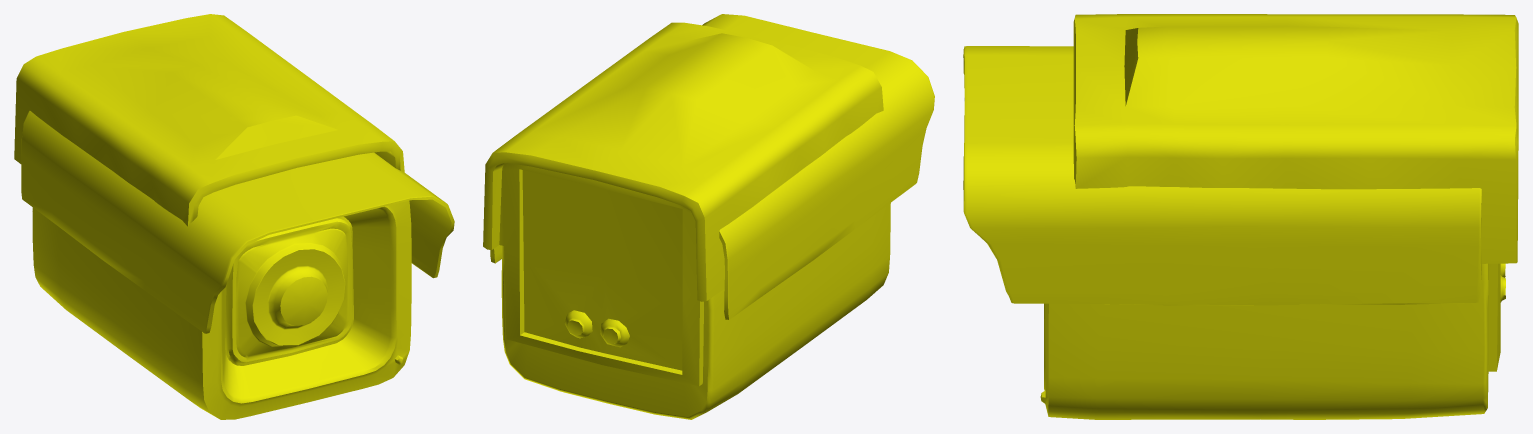
3 renders of one model, left to right at view 1: azimuth 30°, elevation 25°; view 2: azimuth 150°, elevation 25°; view 3: azimuth 270°, elevation 25°, orthographic. The views are drawn at different scales.
Parts seen in each view (by area): view 1: cameramen_head; view 2: cameramen_head; view 3: cameramen_head.
Boxes of the visible parts, x1,y1,x2,y2 form: cameramen_head: (14,14,454,419); cameramen_head: (483,14,934,419); cameramen_head: (963,14,1518,419).
Bounding box in the file's own units: 0.3338 × 0.359 × 0.5419.
1 material, 1 textured.
